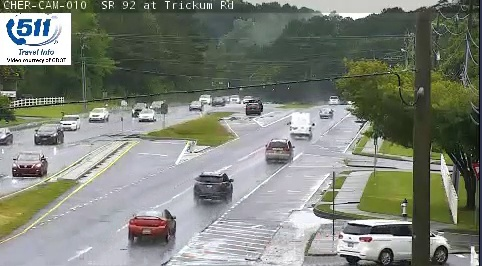car: (128, 209, 174, 238), (194, 173, 233, 199), (266, 139, 293, 162), (319, 108, 334, 119)
van: (290, 112, 310, 137)
